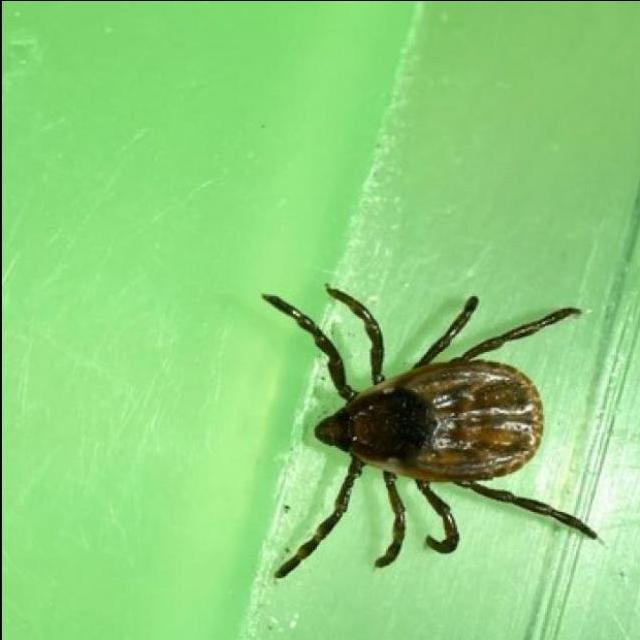Rhipicephalus Sanguineus-F: (260, 285, 596, 579)
